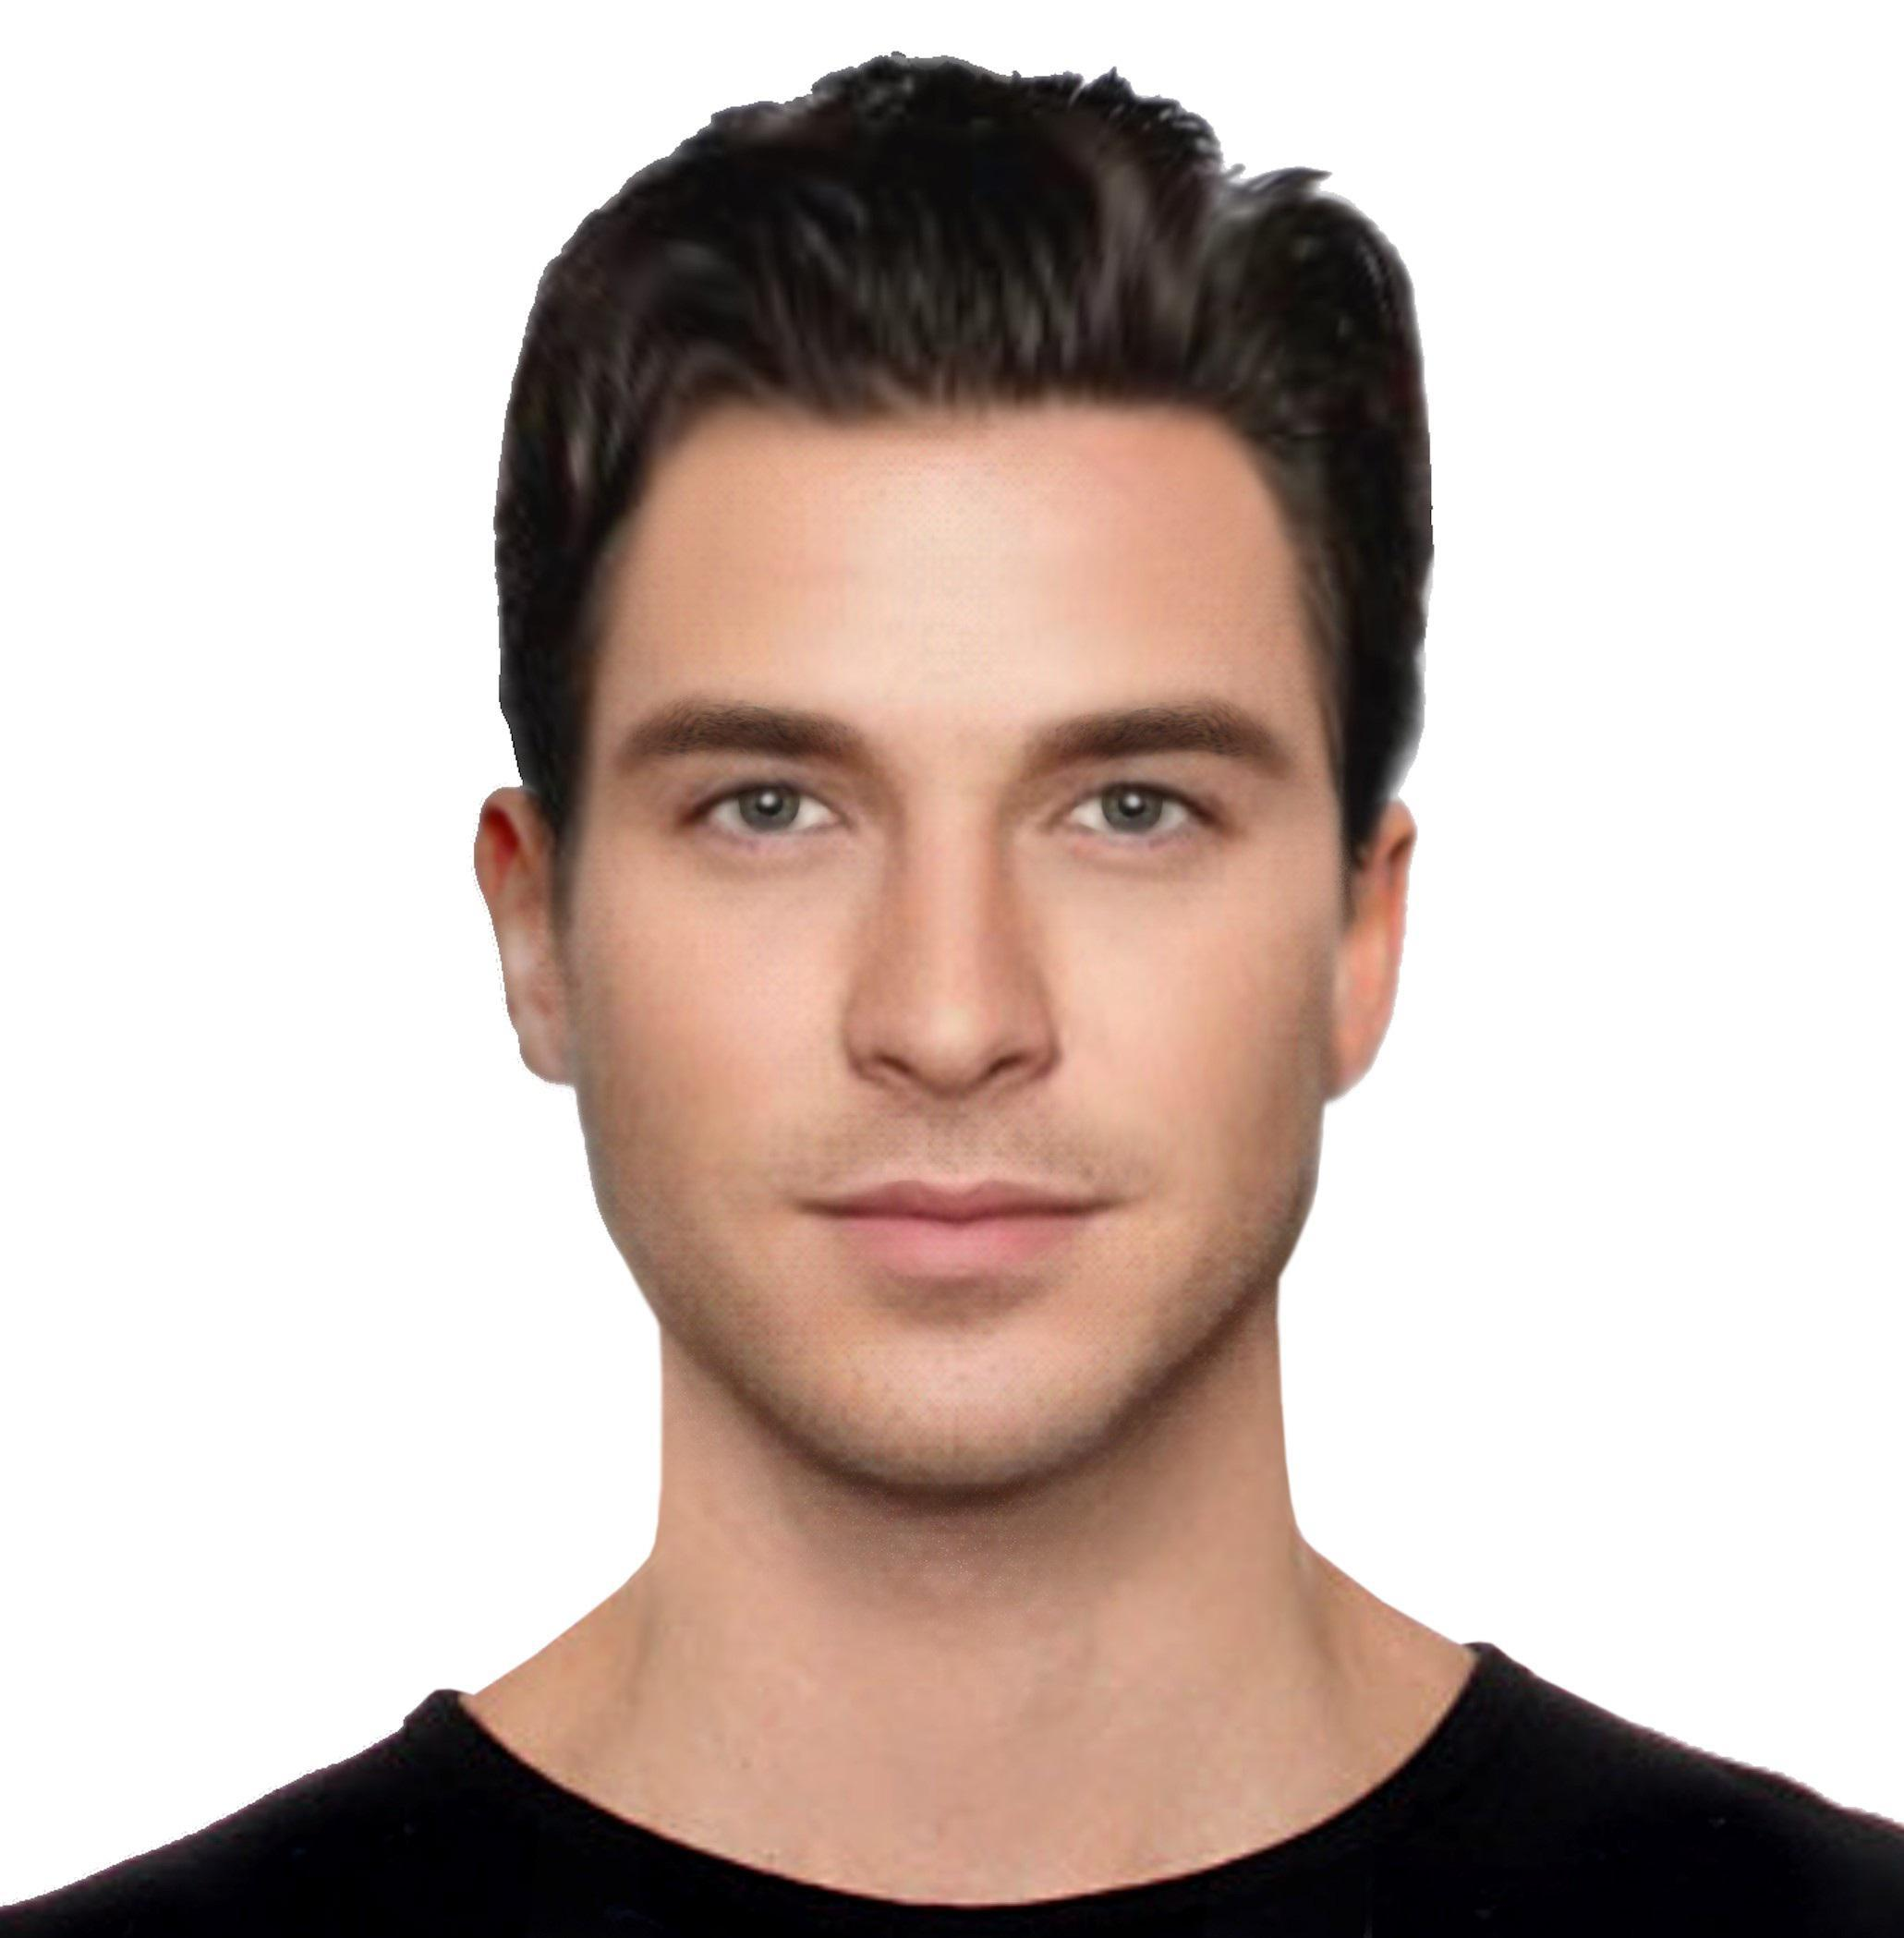Sober: (565, 467, 1357, 1344)
